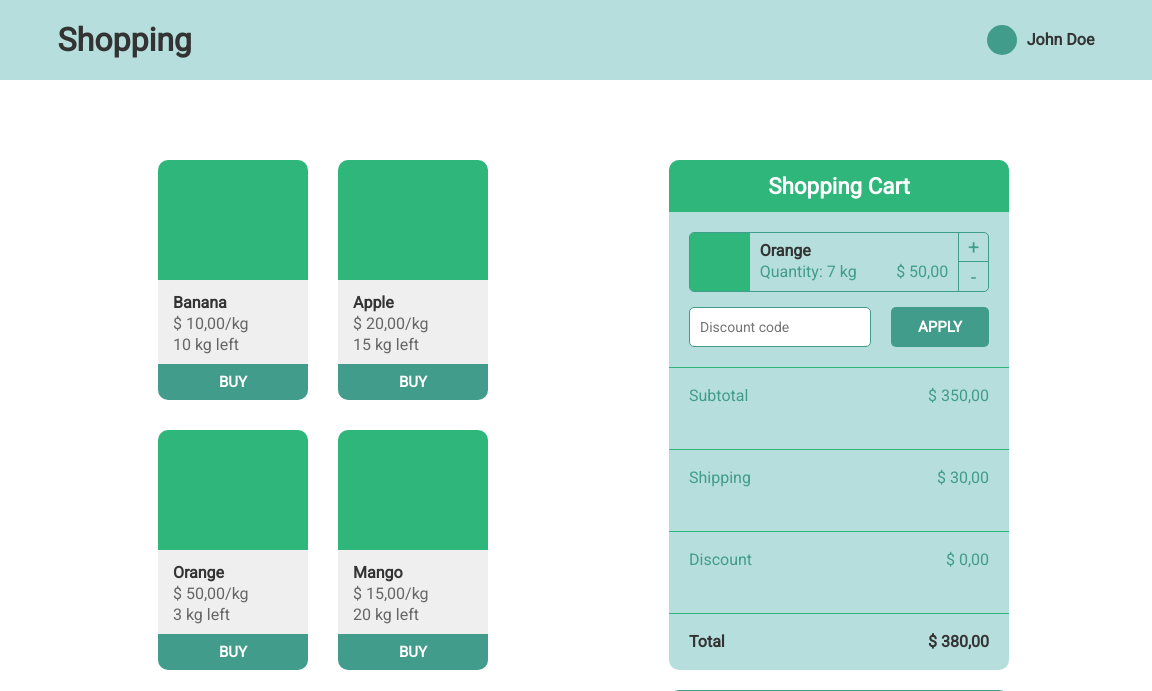
Test: Testing cart features › Should apply voucher and shipping be free
Type "#SHIPIT" into the field with test id "discount-input".
click(780, 327); type("#SHIPIT")  # box [689,307,871,347]
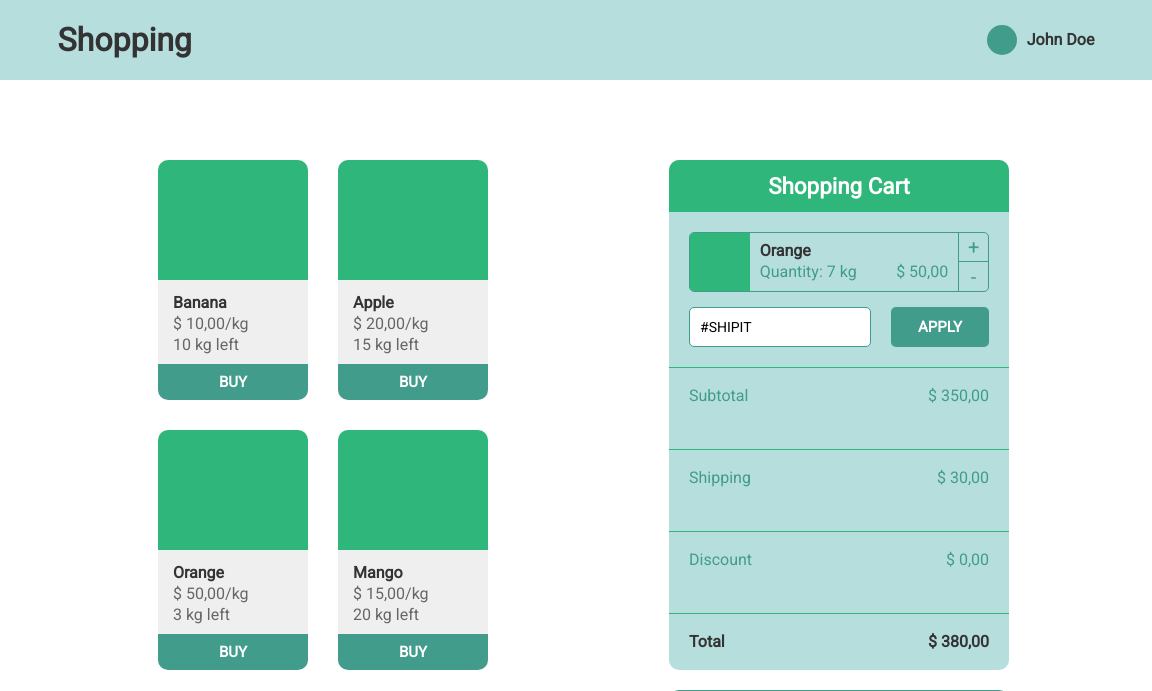
Submit the form, box [689,307,989,347]
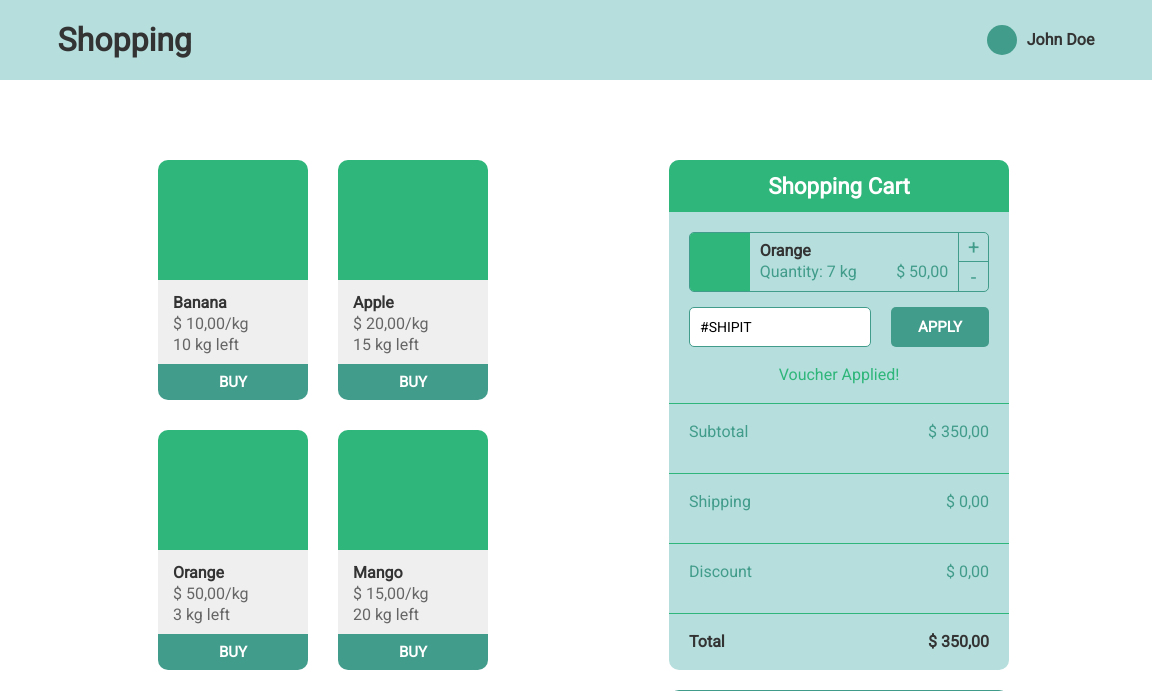
Now the text with test id "ship-field" reads "$ 0,00", box [946,494,989,510]
